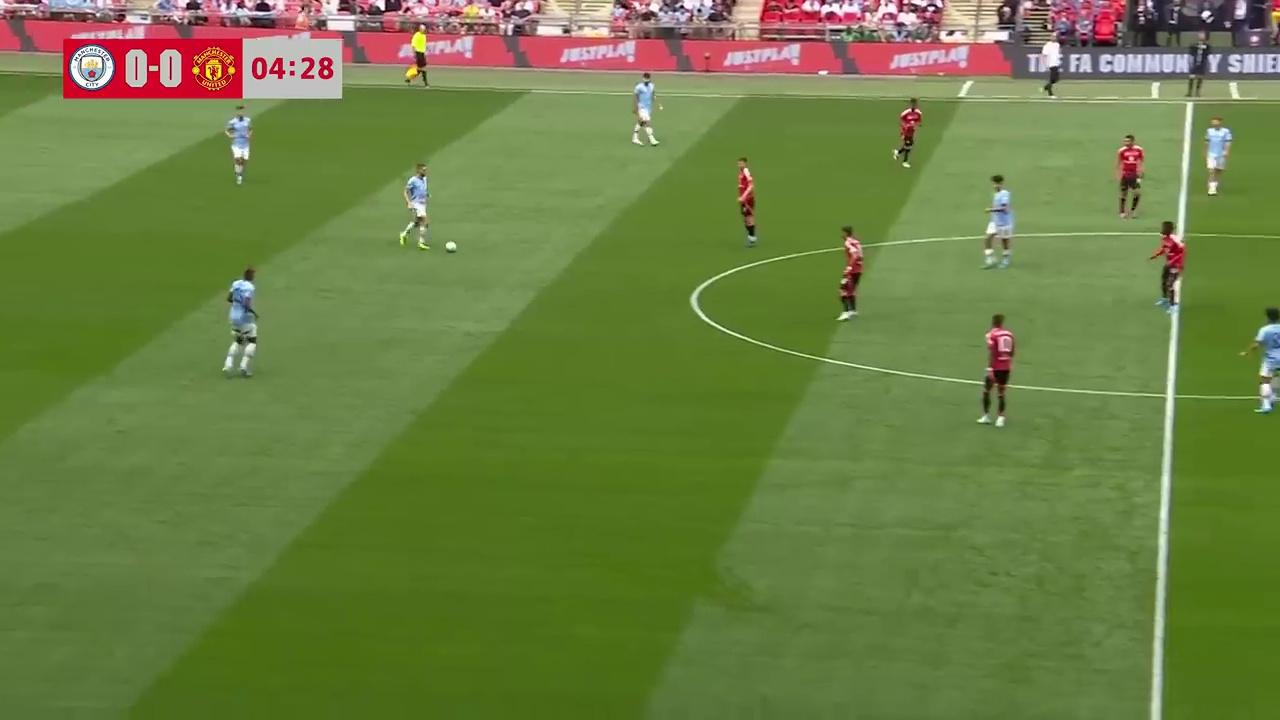ball: (443, 237, 458, 253)
player: (1237, 307, 1280, 415), (221, 267, 259, 378), (979, 313, 1015, 427), (1148, 220, 1185, 310), (981, 175, 1014, 269), (398, 163, 432, 249), (1114, 133, 1144, 219), (837, 226, 864, 320), (1203, 115, 1232, 195), (632, 71, 661, 146), (225, 105, 251, 185), (735, 156, 757, 247), (894, 98, 922, 168)
referee: (405, 26, 430, 88)
